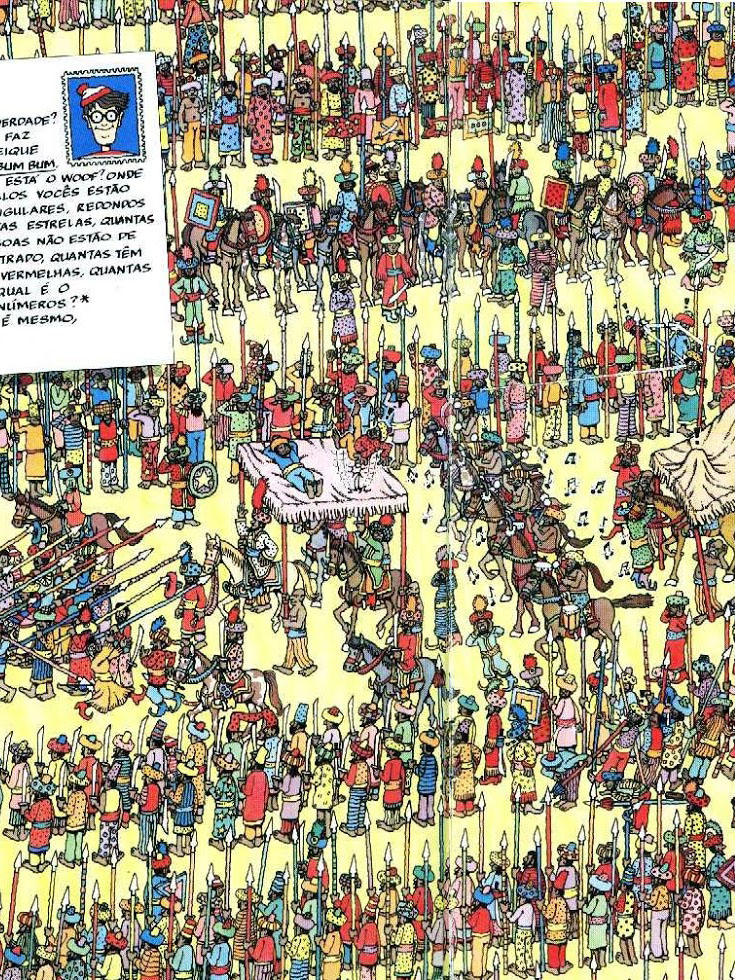waldo: (77, 81, 131, 148), (363, 157, 381, 184)
